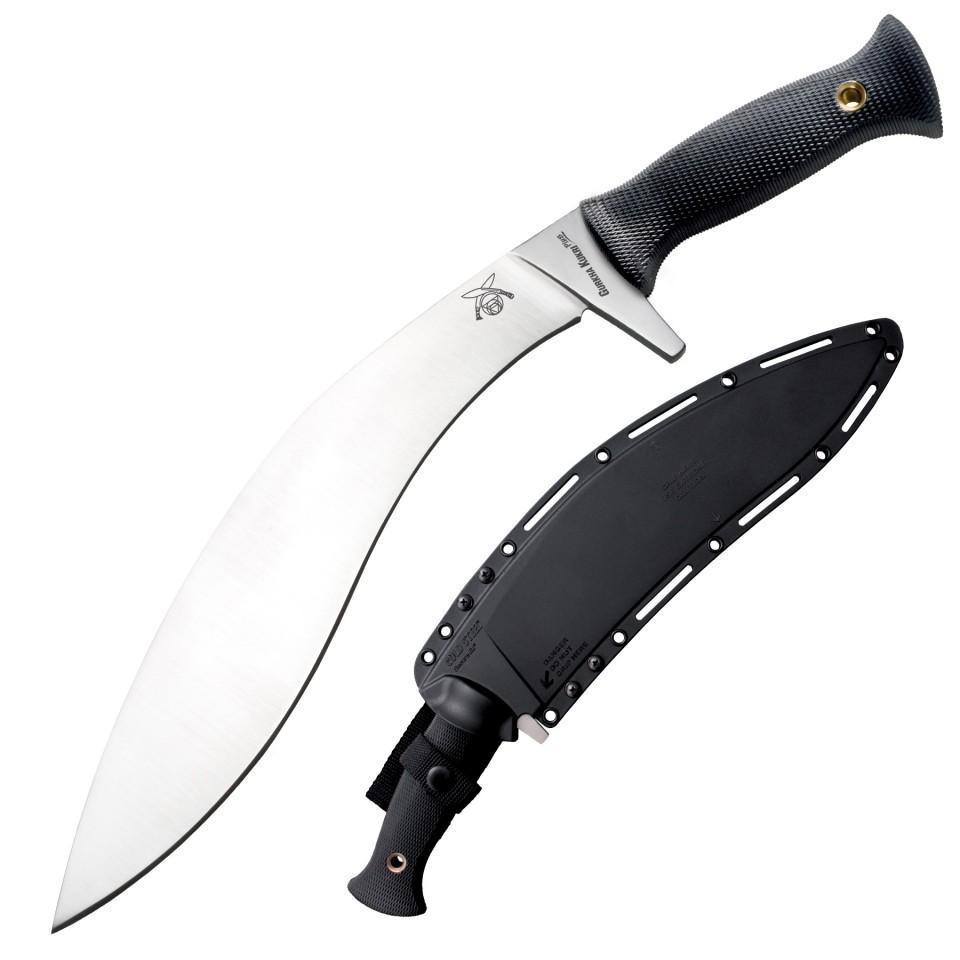facao: (51, 15, 952, 928)
